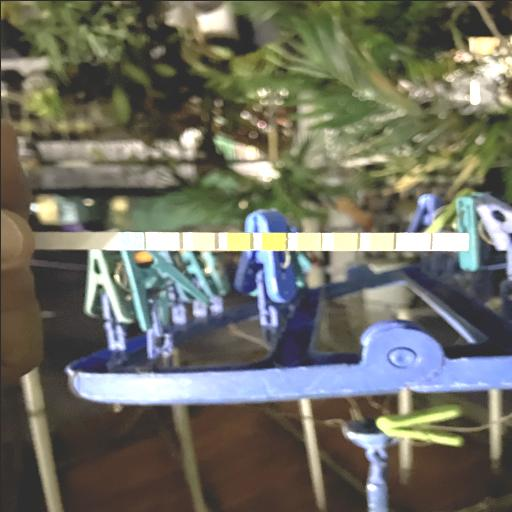Bilirubin: (156, 232, 178, 248)
Blood: (261, 232, 284, 250)
Glucose: (121, 232, 143, 248)
Ketone: (192, 232, 214, 248)
Leukocytes: (443, 232, 467, 250)
Nitrite: (405, 232, 429, 250)
Protein: (332, 232, 356, 250)
SpGravity: (226, 232, 248, 249)
Urobilinogen: (368, 232, 392, 250)
pH: (298, 232, 320, 250)
strip: (36, 232, 468, 250)
